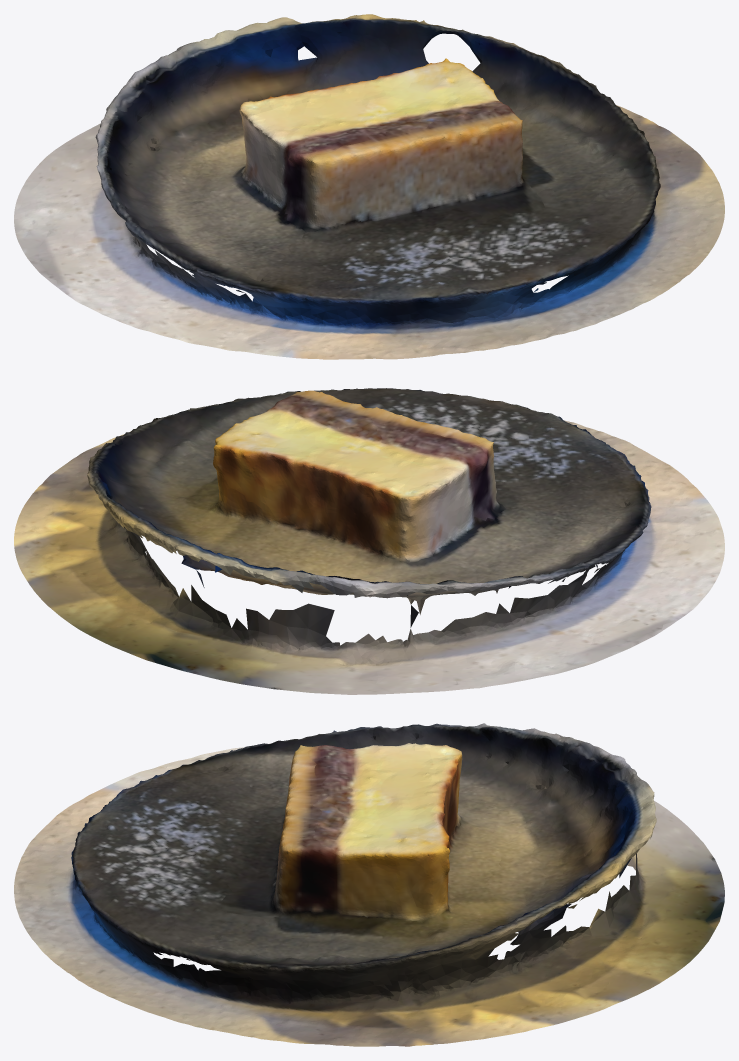
Rendered from cake01.glb.
3 views of the same model, one above another, from view 1: azimuth 30°, elevation 25°; view 2: azimuth 150°, elevation 25°; view 3: azimuth 270°, elevation 25° (orthographic). The views are drawn at different scales.
Visible parts, largest first — view 1: mesh; view 2: mesh; view 3: mesh.
Boxes of the visible parts, left/top/right/bottom form: mesh: left=14, top=14, right=724, bottom=359; mesh: left=14, top=388, right=724, bottom=694; mesh: left=14, top=723, right=724, bottom=1046.
Size of the model in its own units: 0.2199 by 0.0373 by 0.2136.
Materials: 1 (1 with a texture image).
